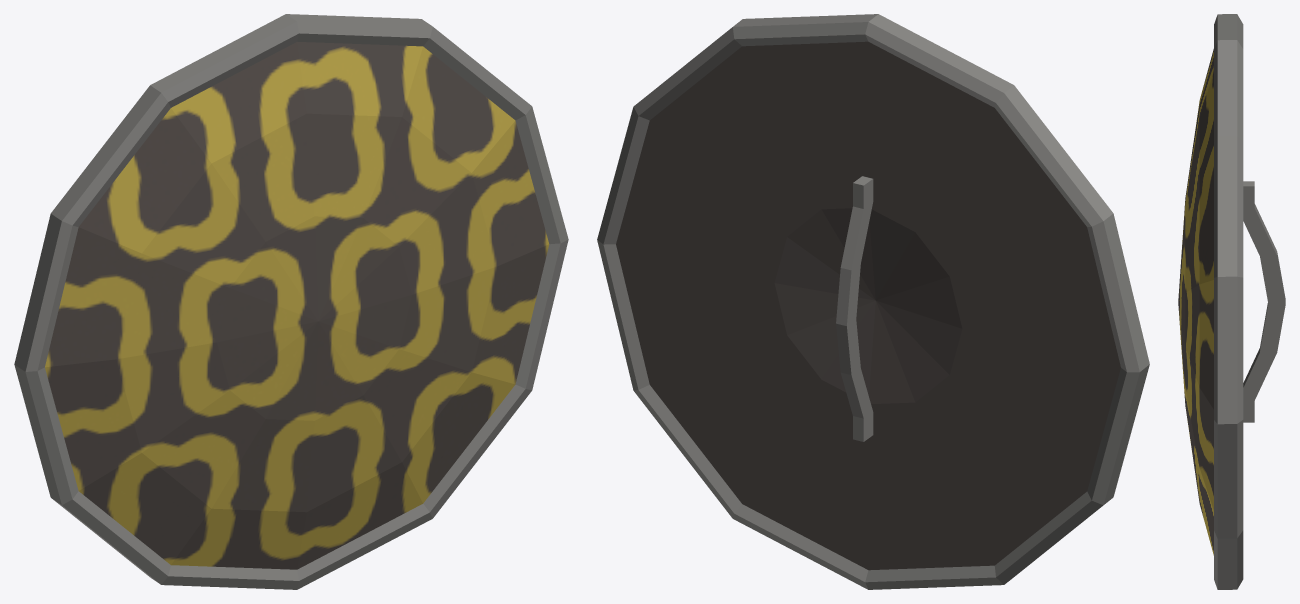
Rendered from SM_pwe_persia_shield_05.fbx.
3 renders of one model, left to right at view 1: azimuth 30°, elevation 25°; view 2: azimuth 150°, elevation 25°; view 3: azimuth 270°, elevation 25°, orthographic. The views are drawn at different scales.
Visible parts, largest first — view 1: SM_pwe_persia_shield_05; view 2: SM_pwe_persia_shield_05; view 3: SM_pwe_persia_shield_05.
Part boxes in pixels (x1,y1,x2,y2): SM_pwe_persia_shield_05: (14,14,568,589); SM_pwe_persia_shield_05: (597,14,1149,589); SM_pwe_persia_shield_05: (1178,14,1285,589).
Size of the model in its own units: 70.51 by 70.44 by 13.1.
